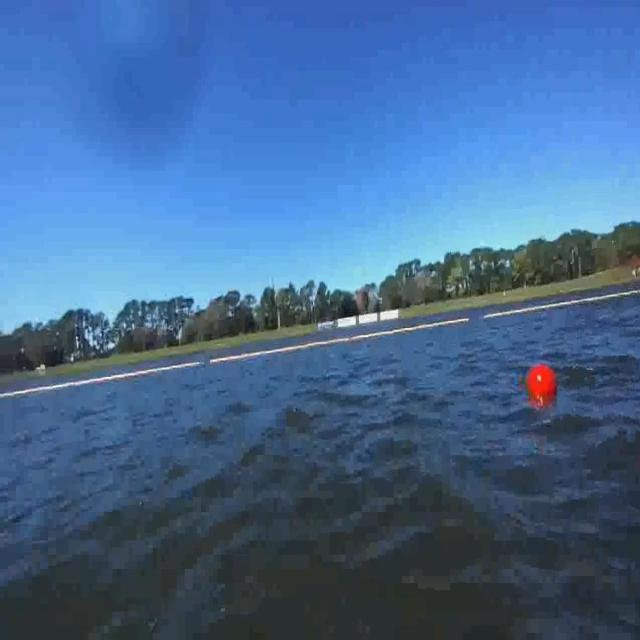red-buoy: (527, 365, 555, 397)
